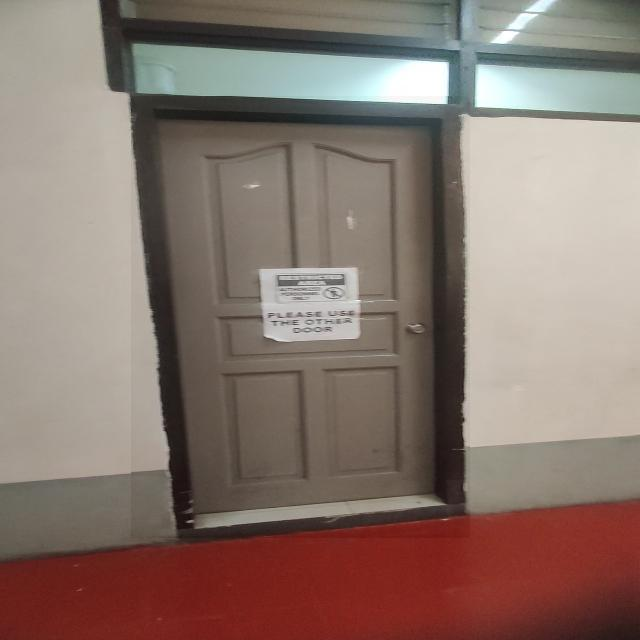door: (132, 72, 484, 540)
